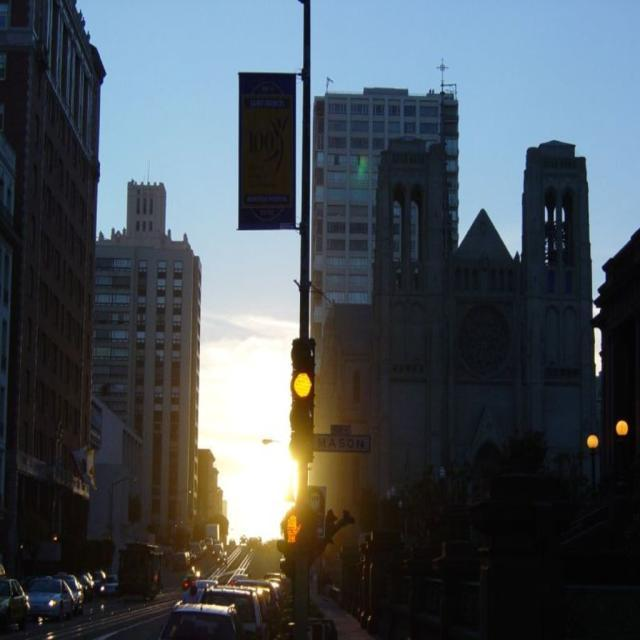traffic light: (288, 334, 316, 467)
